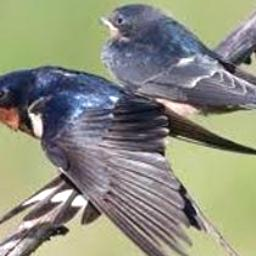Swallow: (0, 66, 256, 256), (101, 2, 256, 108)
